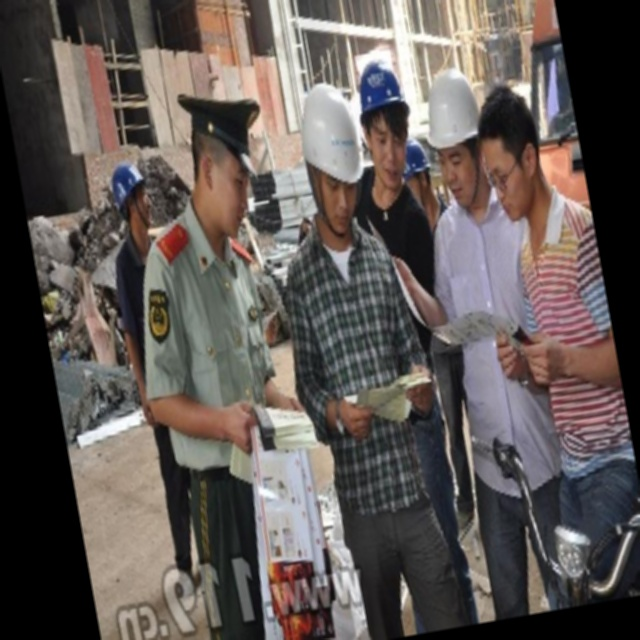Con_Casco: (292, 78, 373, 235), (351, 56, 422, 181)
Sin_Casco_Mascarrilla: (176, 79, 280, 236), (472, 84, 549, 218)
Sin_Chaleco: (286, 229, 430, 509)
